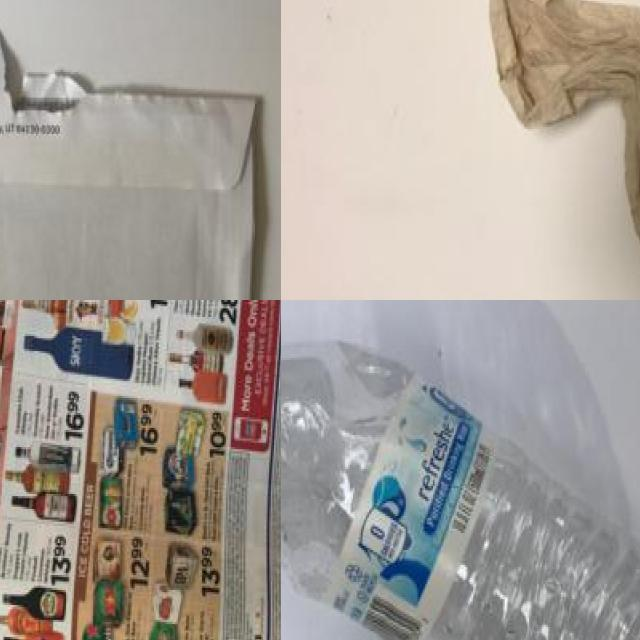paper: (0, 300, 281, 640), (0, 46, 278, 300)
plastic: (281, 316, 640, 640)
trash: (443, 0, 640, 271)
